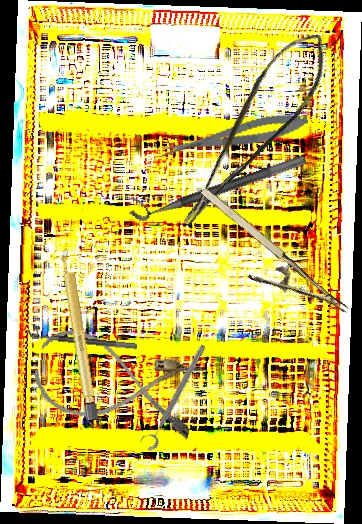Cannula: (27, 323, 207, 445)
Fixation Ring: (124, 139, 308, 226), (136, 339, 210, 454), (26, 323, 139, 350)
Micro Scissor: (150, 20, 349, 233), (157, 107, 311, 163)
Needle Holder: (180, 182, 350, 343)
Scalpel Handle: (58, 247, 100, 422)
